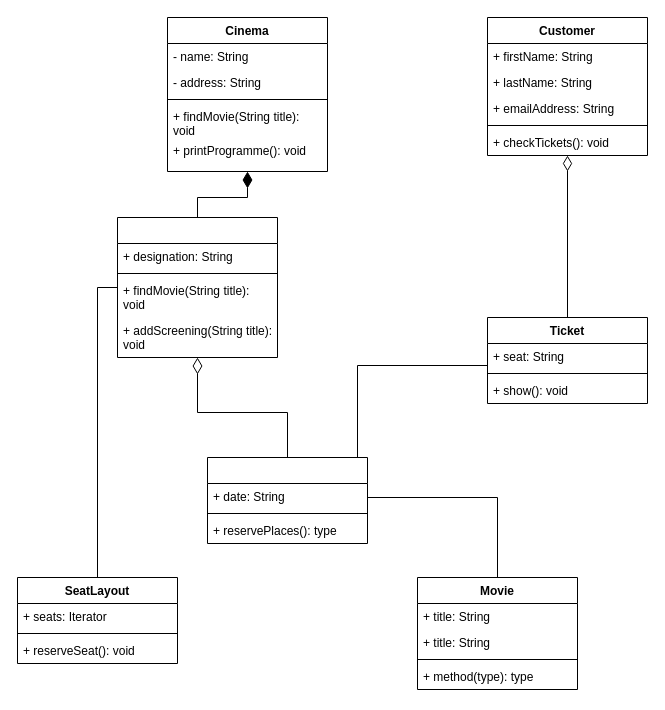
Some shapes in this 665 by 710 pixel diagram are drawn without their labels. Here are the shapes that lost their labels. From the top down, the box of each, then its label:
(116, 216, 278, 358): ScreeningRoom
(206, 456, 368, 544): Screening
